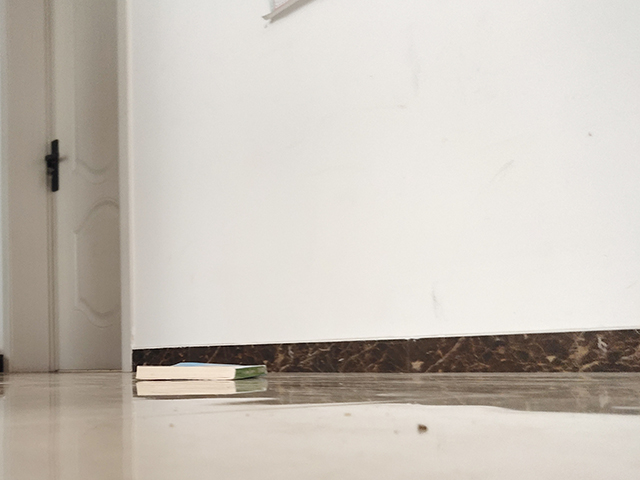book: (134, 360, 269, 382)
